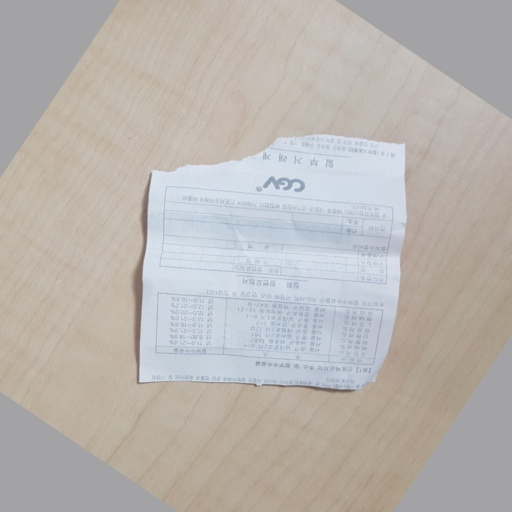Paper_2: (138, 132, 411, 414)
